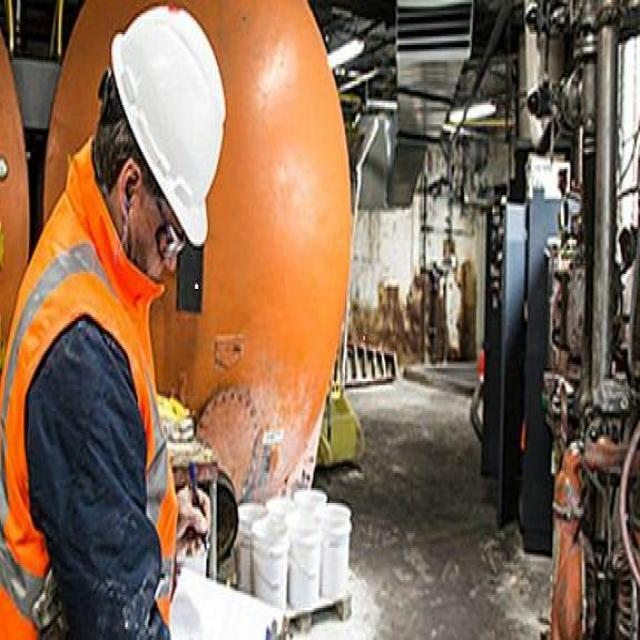Reflective-Jacket: (0, 178, 177, 632)
Safety-Helmet: (107, 0, 229, 250)
